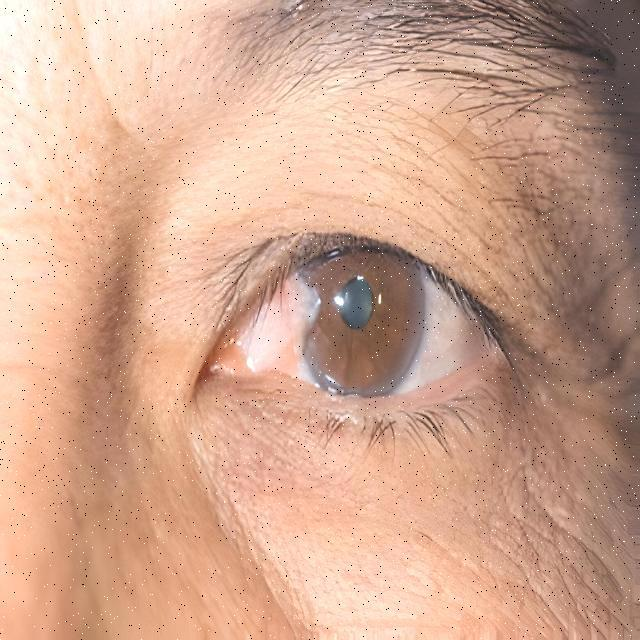Pterygium: (224, 266, 322, 376)
